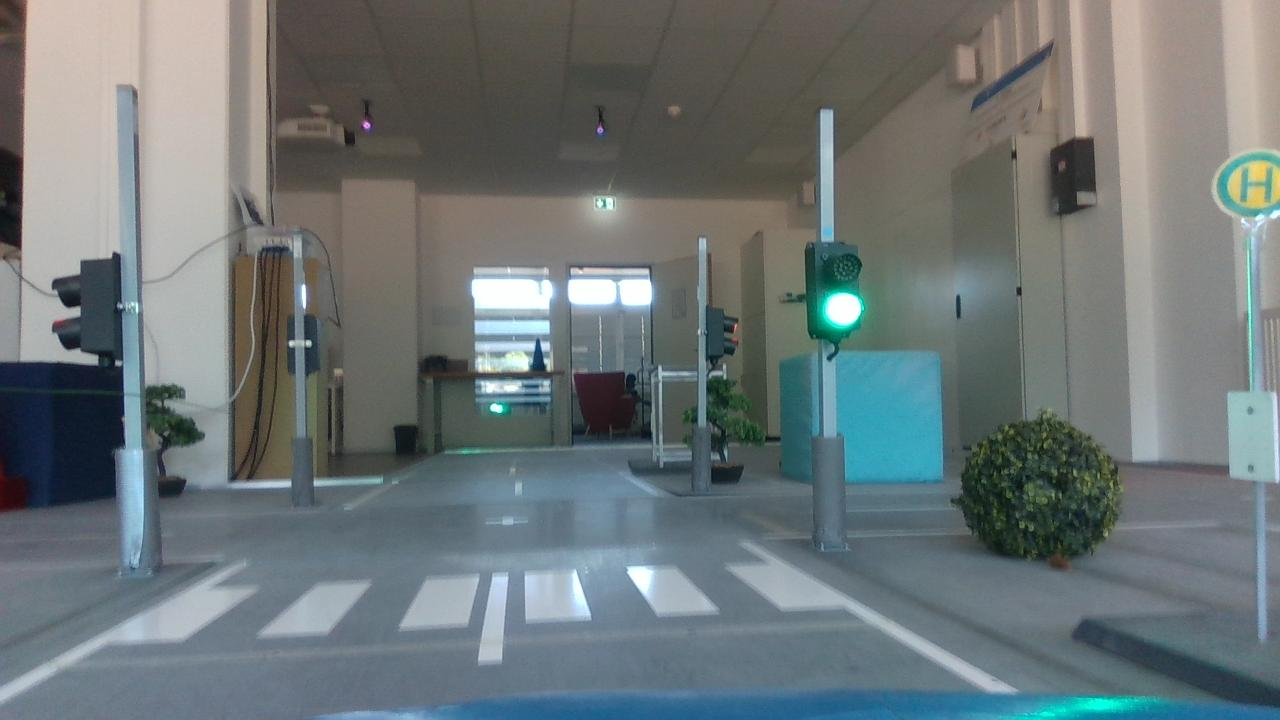traffic_light_green: (798, 232, 872, 356)
